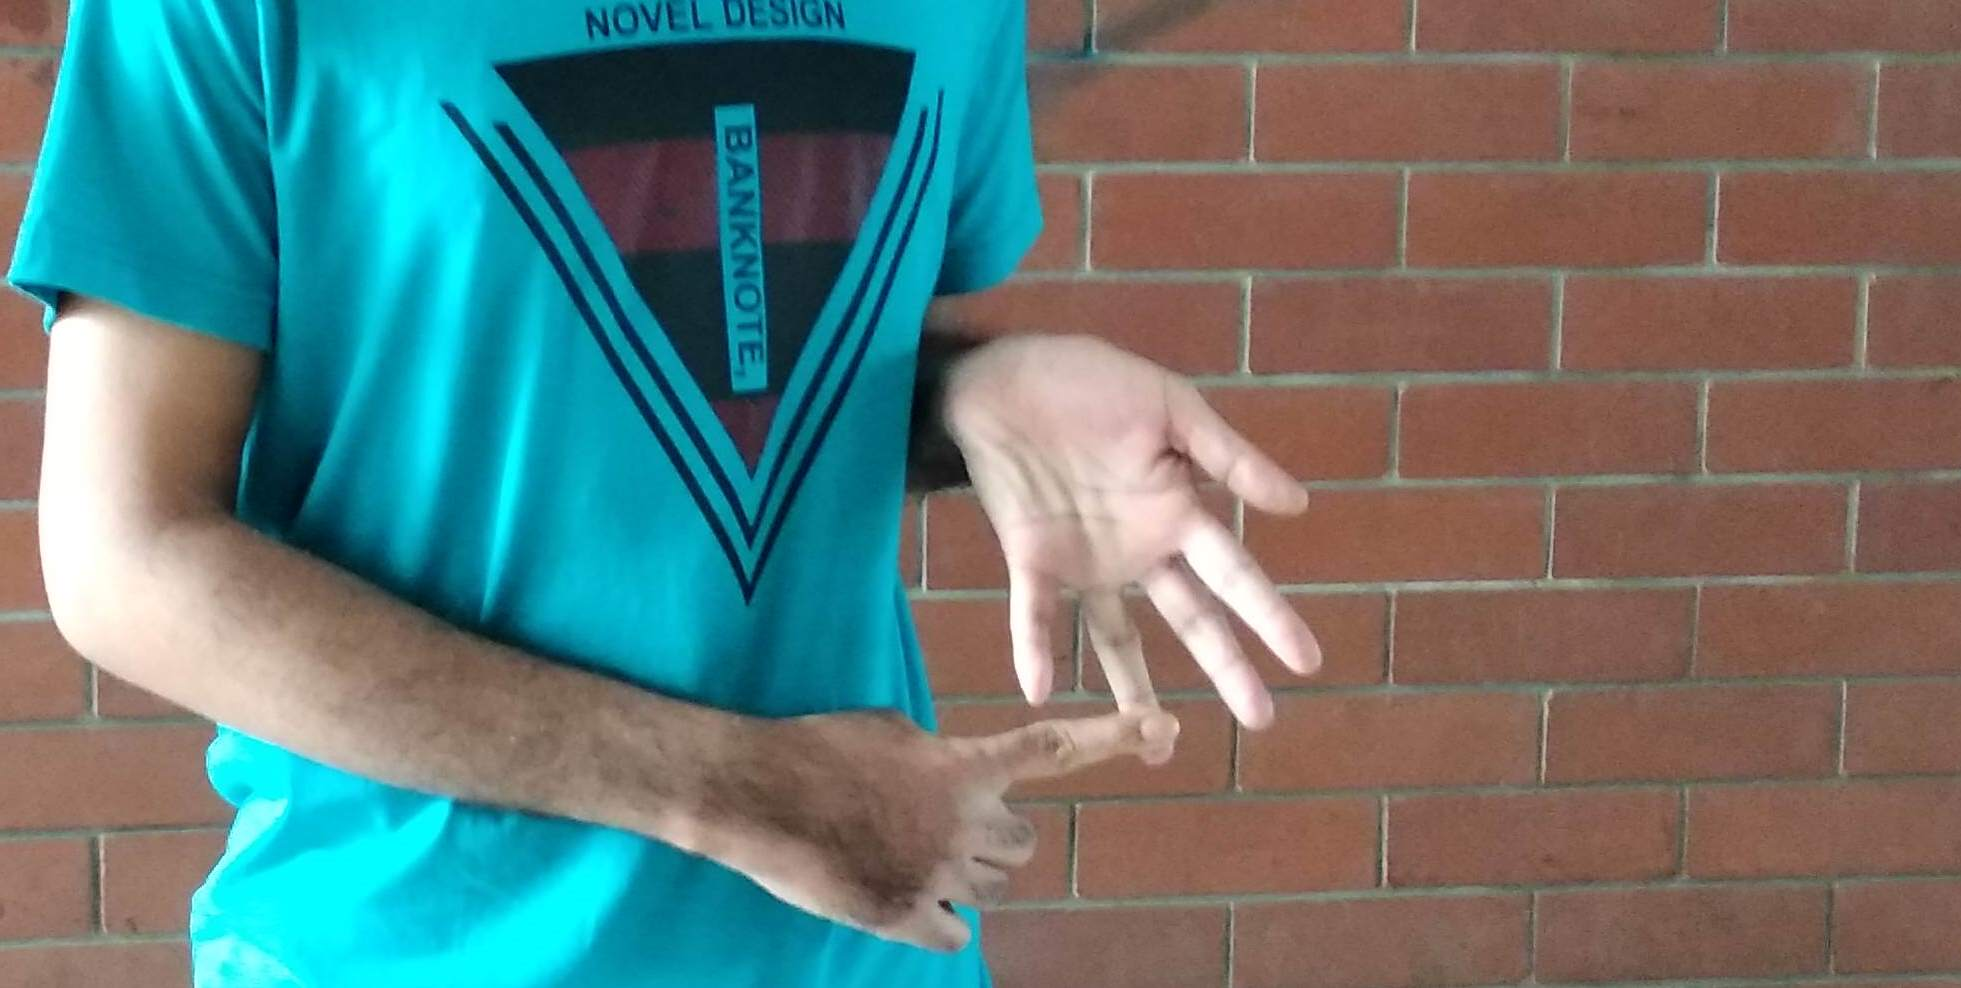e: (854, 422, 1311, 968)
